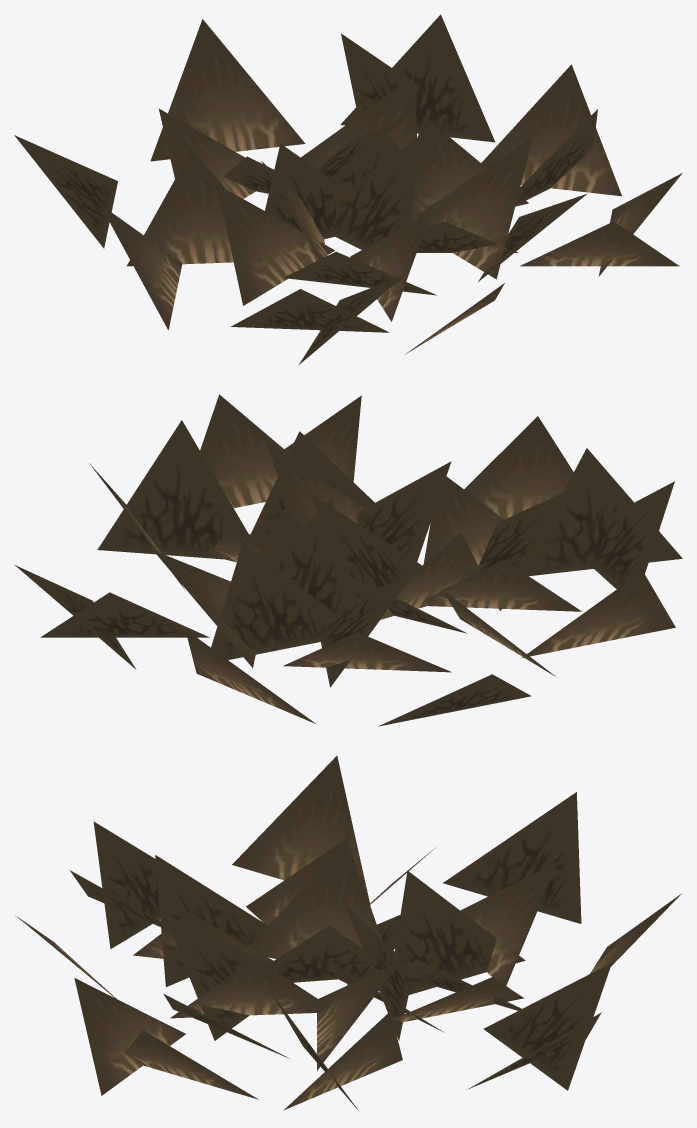
The model's file is dec_dry_grass_012_50559.glb.
3 renders of one model, top to bottom at view 1: azimuth 30°, elevation 25°; view 2: azimuth 150°, elevation 25°; view 3: azimuth 270°, elevation 25°, orthographic. The views are drawn at different scales.
Parts seen in each view (by area): view 1: dry_grass_012_mesh; view 2: dry_grass_012_mesh; view 3: dry_grass_012_mesh.
Part boxes in pixels (x1=…): dry_grass_012_mesh: x1=14, y1=14, x2=682, y2=365; dry_grass_012_mesh: x1=15, y1=394, x2=682, y2=726; dry_grass_012_mesh: x1=15, y1=755, x2=681, y2=1111.
Bounding box in the file's own units: 1.62 × 0.3079 × 1.78.
1 material, 1 textured.
